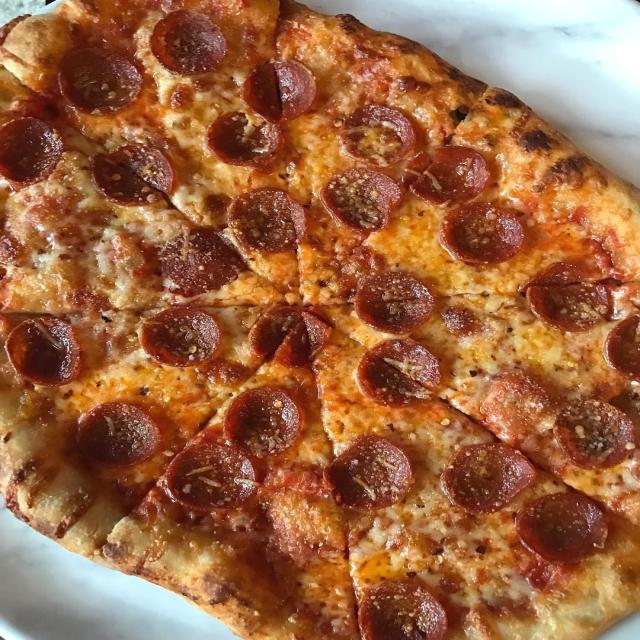pepperoni: (516, 489, 612, 566), (163, 440, 259, 514), (438, 442, 533, 516), (323, 436, 414, 513), (519, 261, 612, 333), (157, 228, 249, 298), (354, 338, 441, 408), (3, 314, 84, 389), (55, 46, 144, 114), (74, 400, 162, 468), (552, 400, 636, 470), (316, 169, 404, 235), (245, 305, 334, 369), (138, 304, 224, 370), (356, 579, 449, 640), (226, 185, 308, 254), (224, 384, 302, 456), (437, 202, 526, 265), (402, 143, 493, 204), (90, 143, 176, 207), (148, 11, 229, 77), (354, 270, 434, 335), (335, 104, 416, 168), (241, 58, 320, 121), (0, 115, 62, 186), (205, 113, 285, 168), (601, 312, 640, 381)
pizza: (0, 0, 640, 640)
